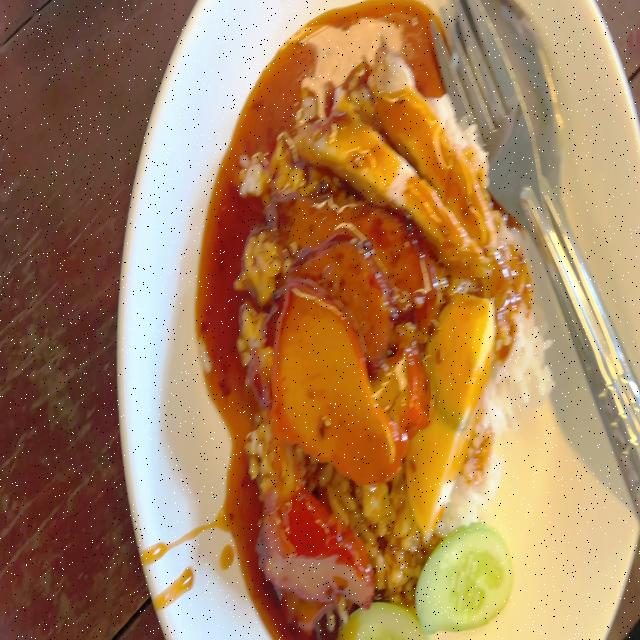boiled_egg: (410, 285, 493, 528)
chainese_sausage: (280, 167, 427, 357)
crispy_pork: (287, 67, 494, 265)
cucumber: (415, 525, 516, 639), (348, 604, 420, 640)
red_pork: (271, 286, 396, 481), (261, 487, 374, 608)
red_pork_and_crispy_pork: (242, 60, 537, 640)
